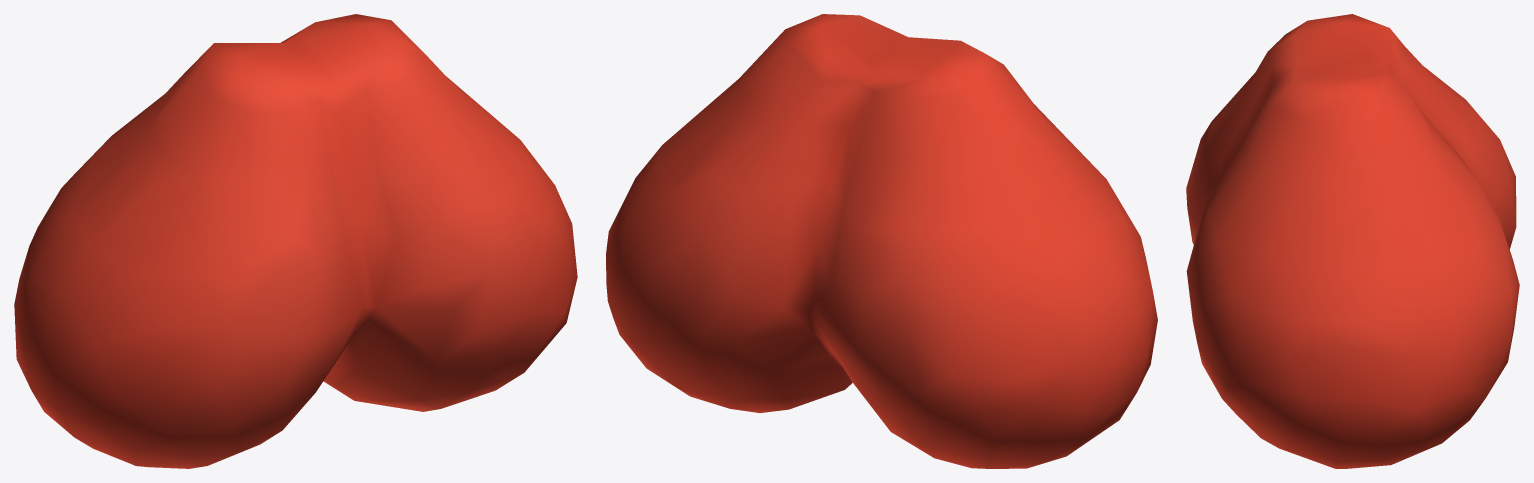
The model's file is studio.glb.
The picture shows the model from 3 angles, left to right: view 1: azimuth 30°, elevation 25°; view 2: azimuth 150°, elevation 25°; view 3: azimuth 270°, elevation 25°; orthographic projection. The views are drawn at different scales.
Bounding box in the file's own units: 1.41 × 1.01 × 0.8716.
1 material, 1 textured.
